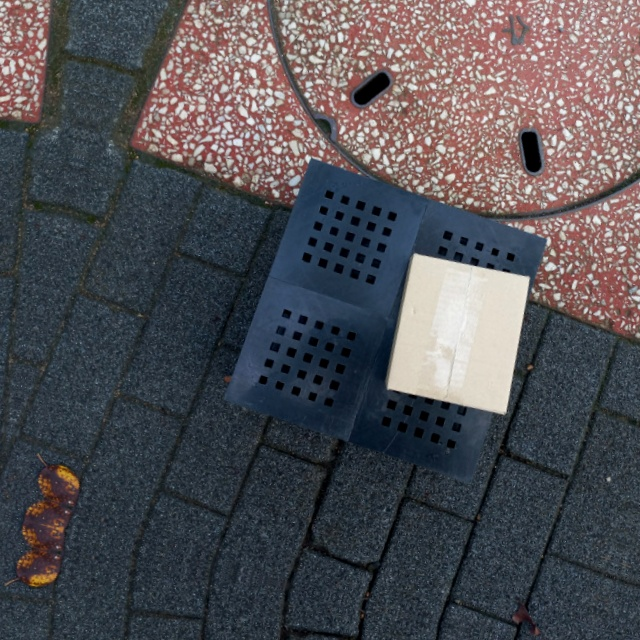box: (384, 248, 534, 419)
pallet: (217, 148, 551, 492)
